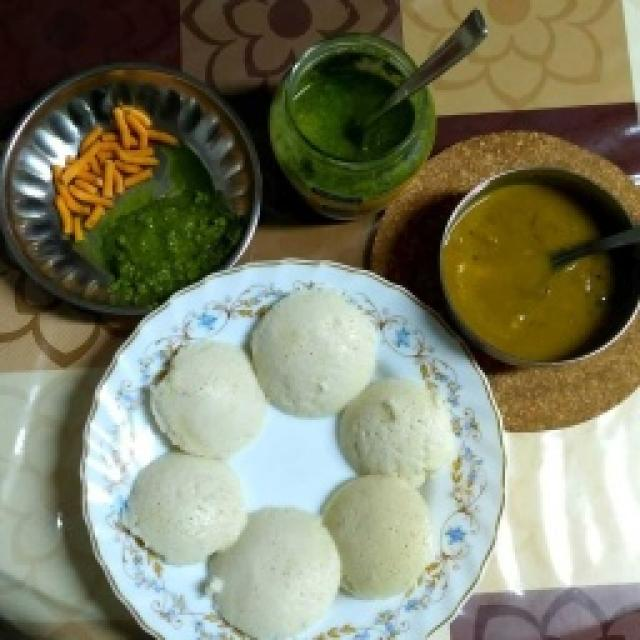idli: (146, 321, 441, 599)
